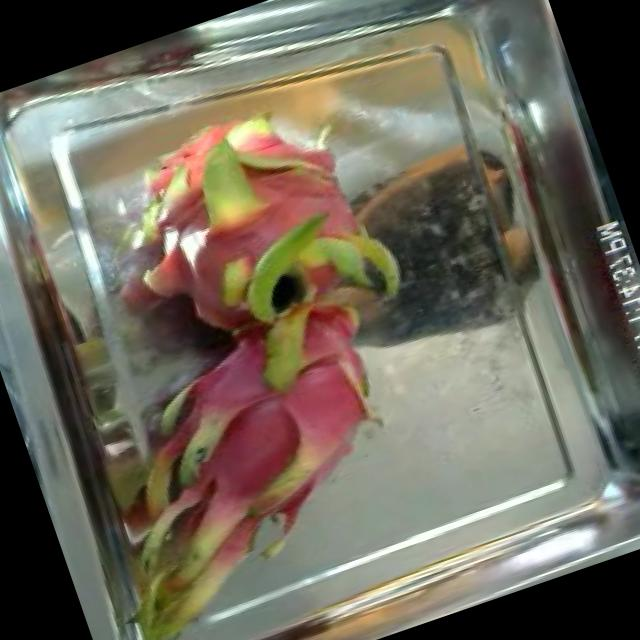Fruit: (130, 152, 240, 260)
